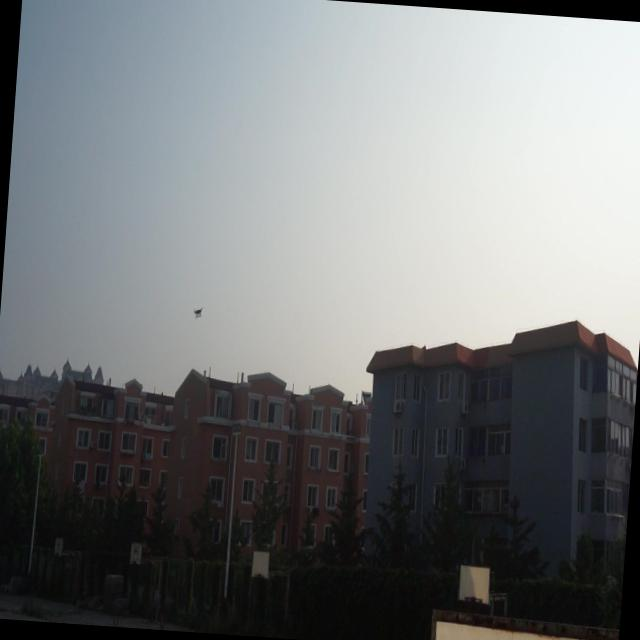drone: (193, 301, 205, 322)
